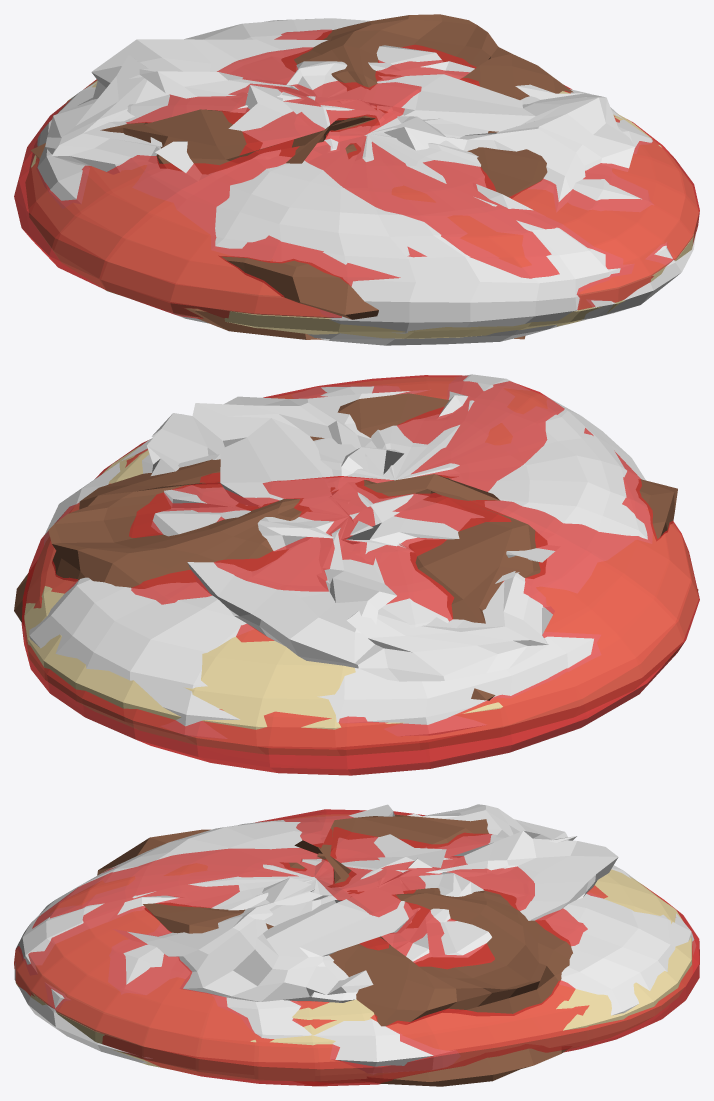
File: rawChicken_v1_SauceCheeseFinnaBakeThisBoi.fbx
The picture shows the model from 3 angles, top to bottom: view 1: azimuth 30°, elevation 25°; view 2: azimuth 150°, elevation 25°; view 3: azimuth 270°, elevation 25°; orthographic projection. The views are drawn at different scales.
Parts seen in each view (by area): view 1: S A U C E, flour, cheesenbasil, Sphere, flour.001; view 2: S A U C E, flour, cheesenbasil, Sphere, flour.001; view 3: S A U C E, flour, cheesenbasil, Sphere, flour.001.
Part boxes in pixels (x1,y1,x2,y2): S A U C E: (14, 29, 699, 318); flour: (30, 18, 696, 345); cheesenbasil: (45, 39, 634, 215); Sphere: (25, 80, 698, 338); flour.001: (30, 14, 573, 339); S A U C E: (21, 375, 699, 775); flour: (29, 374, 652, 738); cheesenbasil: (142, 390, 559, 681); Sphere: (24, 377, 698, 755); flour.001: (14, 393, 698, 700); S A U C E: (14, 809, 699, 1086); flour: (14, 816, 695, 1074); cheesenbasil: (108, 804, 618, 1002); Sphere: (14, 814, 692, 1081); flour.001: (97, 814, 572, 1086).
Bounding box in the file's own units: 106 × 28.3 × 123.
